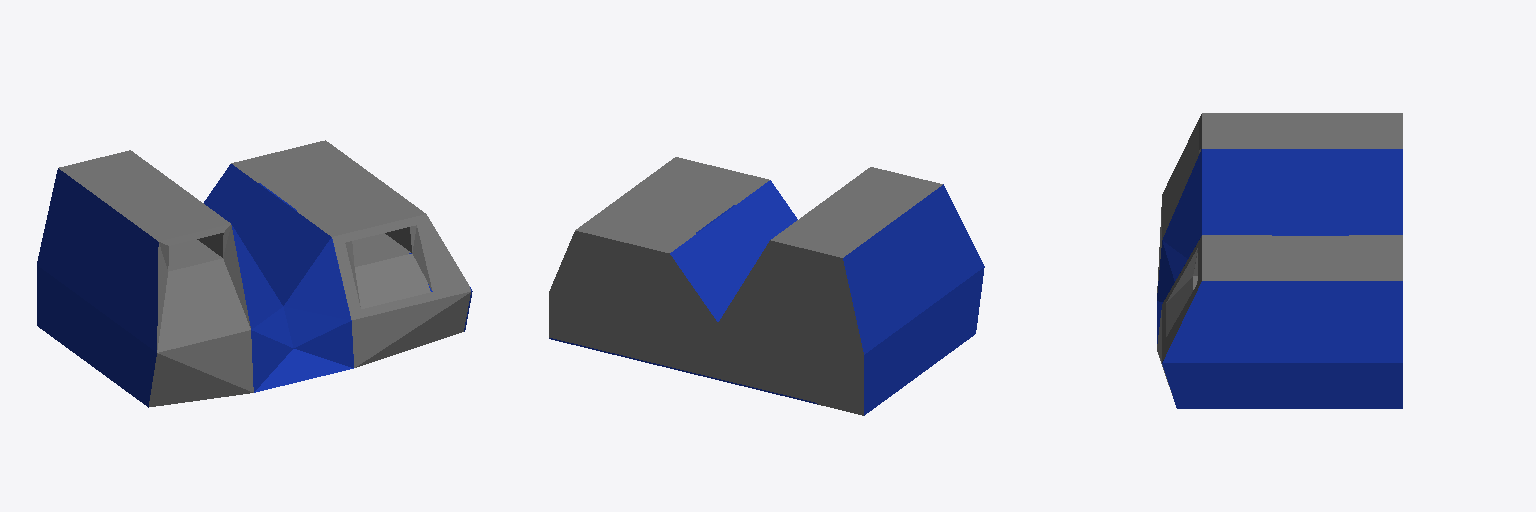
3 views of the same model, side by side, from view 1: azimuth 30°, elevation 25°; view 2: azimuth 150°, elevation 25°; view 3: azimuth 270°, elevation 25° (orthographic).
Visible parts, largest first — view 1: LaunchingPad; view 2: LaunchingPad; view 3: LaunchingPad.
Boxes of the visible parts, <box> form: LaunchingPad: <box>37,140,472,407</box>; LaunchingPad: <box>549,157,984,415</box>; LaunchingPad: <box>1157,113,1402,408</box>.
Size of the model in its own units: 64.89 by 30 by 43.91.
1 materials, 1 textured.